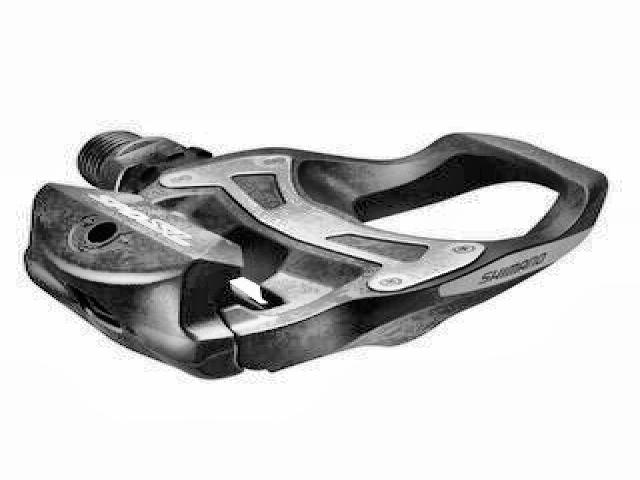pedal: (15, 125, 613, 388)
